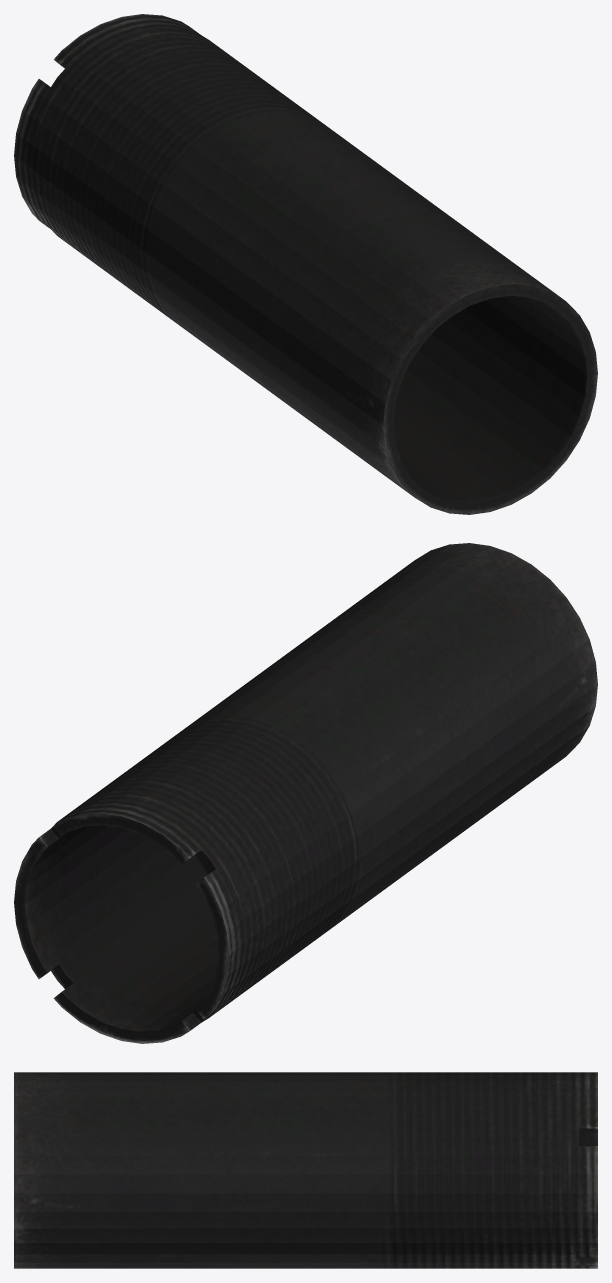
3 views of the same model, one above another, from view 1: azimuth 30°, elevation 25°; view 2: azimuth 150°, elevation 25°; view 3: azimuth 270°, elevation 25° (orthographic). The views are drawn at different scales.
Parts seen in each view (by area): view 1: TW_619d36da53b4d42ee724fae4_PZ_Import; view 2: TW_619d36da53b4d42ee724fae4_PZ_Import; view 3: TW_619d36da53b4d42ee724fae4_PZ_Import.
Part boxes in pixels (box(x1,y1,x2,y2)): TW_619d36da53b4d42ee724fae4_PZ_Import: box(14, 14, 597, 514); TW_619d36da53b4d42ee724fae4_PZ_Import: box(14, 543, 597, 1043); TW_619d36da53b4d42ee724fae4_PZ_Import: box(14, 1072, 597, 1268).
Size of the model in its own units: 0.0107 by 0.0318 by 0.0107.
Materials: 1 (1 with a texture image).
